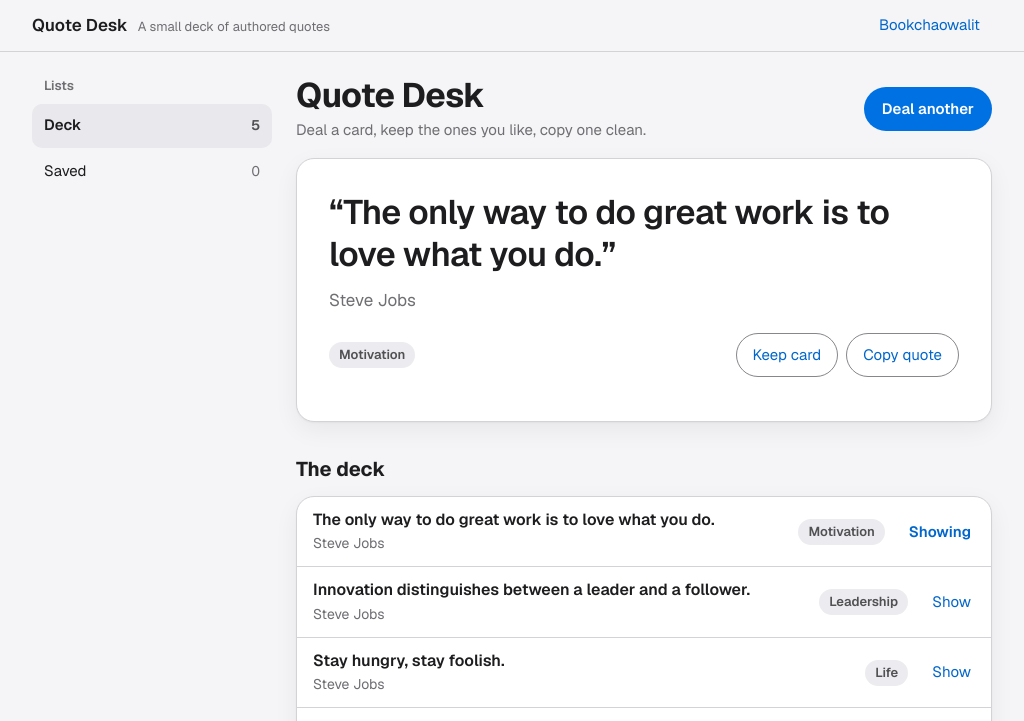
Test: quote desk › says so when the card could not be saved in this browser
What coordinates should you click on to do the following:
click the button "Keep card"
I would click on:
 (787, 355)
Its box is [736,333,838,377].
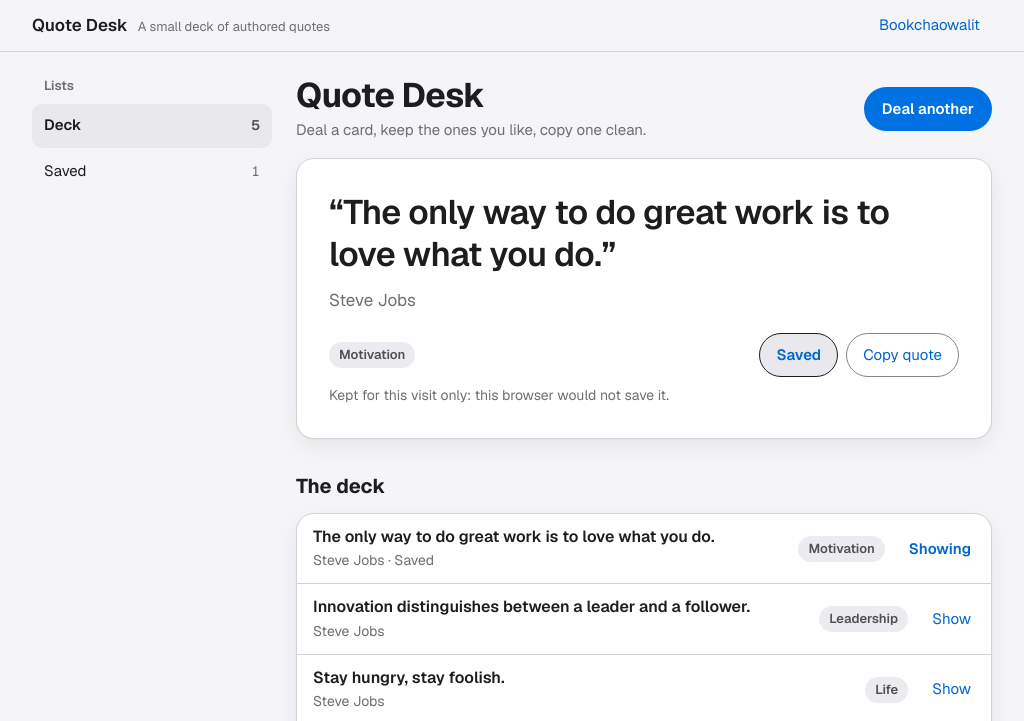
Check: the message "Kept for this visit only: this browser would not save it." is shown, box [329,386,669,404]
